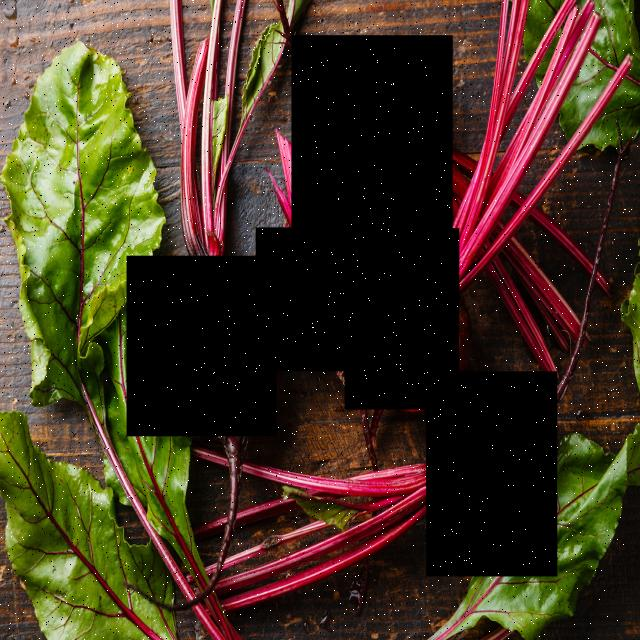Beetroot: (292, 36, 453, 230), (127, 256, 277, 437), (427, 372, 558, 576), (345, 229, 459, 410), (256, 228, 390, 372)
